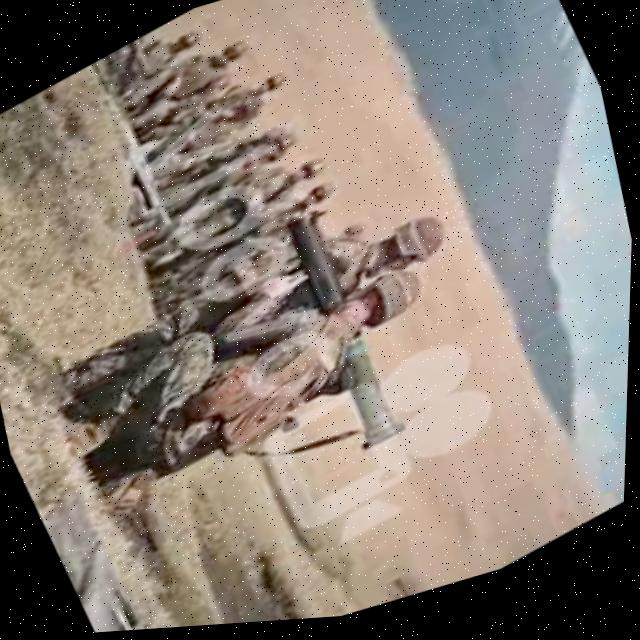rocket: (248, 186, 436, 479)
